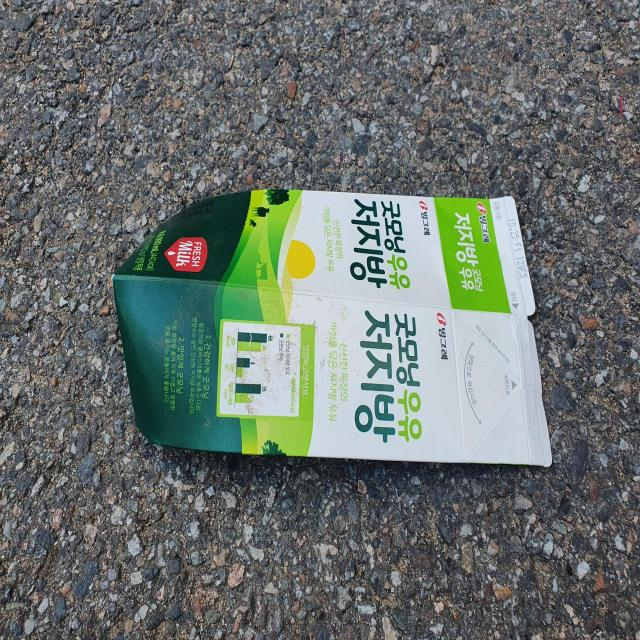paperpack: (112, 189, 553, 466)
